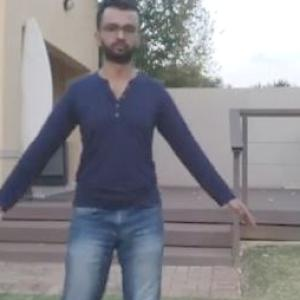land: (1, 19, 239, 299)
